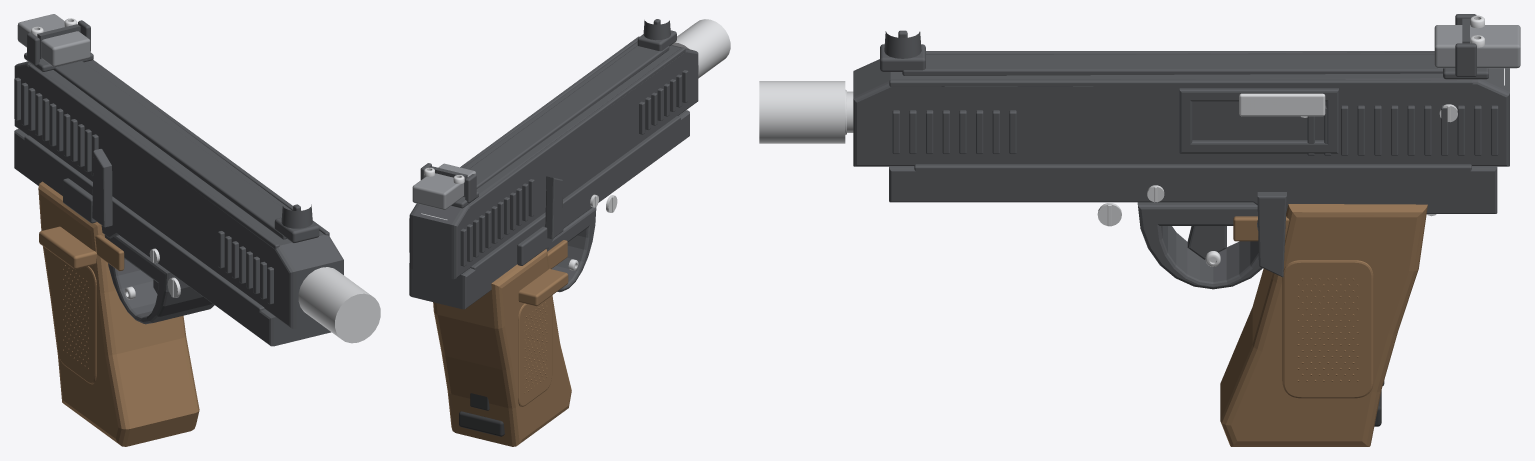
File: mark4.glb
3 renders of one model, left to right at view 1: azimuth 30°, elevation 25°; view 2: azimuth 150°, elevation 25°; view 3: azimuth 270°, elevation 25°, orthographic. The views are drawn at different scales.
Parts seen in each view (by area): view 1: target-pistol, slide/gunmetal; view 2: target-pistol, slide/gunmetal, magazine/polymerBlack; view 3: target-pistol, slide/gunmetal, slide/steelBright.
Boxes of the visible parts, x1,y1,x2,y2 form: target-pistol: (14,14,380,446); slide/gunmetal: (14,20,343,328); target-pistol: (409,19,730,446); slide/gunmetal: (409,19,698,279); magazine/polymerBlack: (459,393,504,436); target-pistol: (759,15,1520,446); slide/gunmetal: (853,14,1509,166); slide/steelBright: (1239,68,1504,122).
Size of the model in its own units: 0.0495 by 0.1533 by 0.265.
